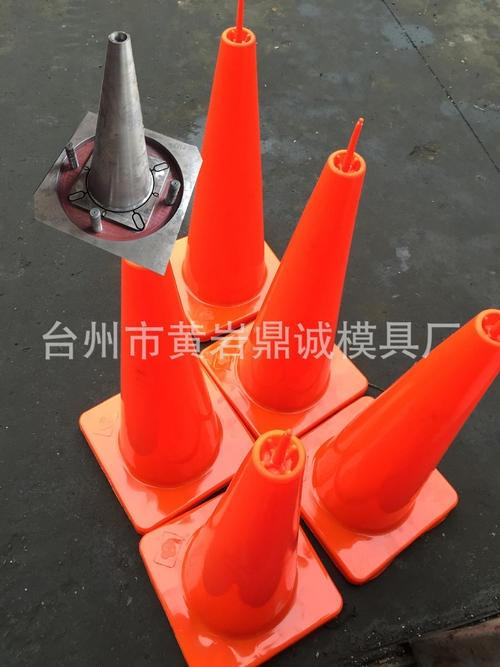cone_barrel: (228, 127, 372, 421), (314, 305, 497, 535), (172, 21, 277, 341), (172, 422, 314, 630), (116, 216, 223, 488), (71, 31, 162, 229)
